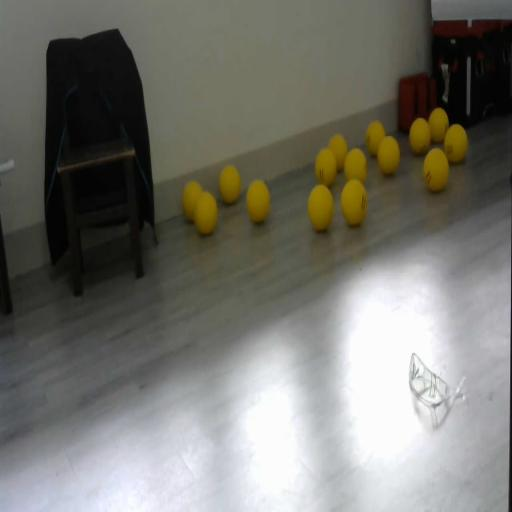FUEL: (307, 183, 334, 232), (340, 179, 368, 226), (422, 146, 450, 192), (245, 178, 271, 224), (193, 189, 218, 236), (377, 135, 401, 176), (444, 124, 468, 164), (219, 164, 241, 205), (409, 117, 431, 155), (344, 147, 366, 184), (328, 134, 348, 171), (428, 107, 448, 143)
